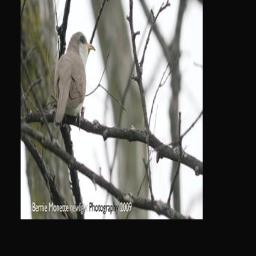Cuckoo: (53, 30, 95, 129)
